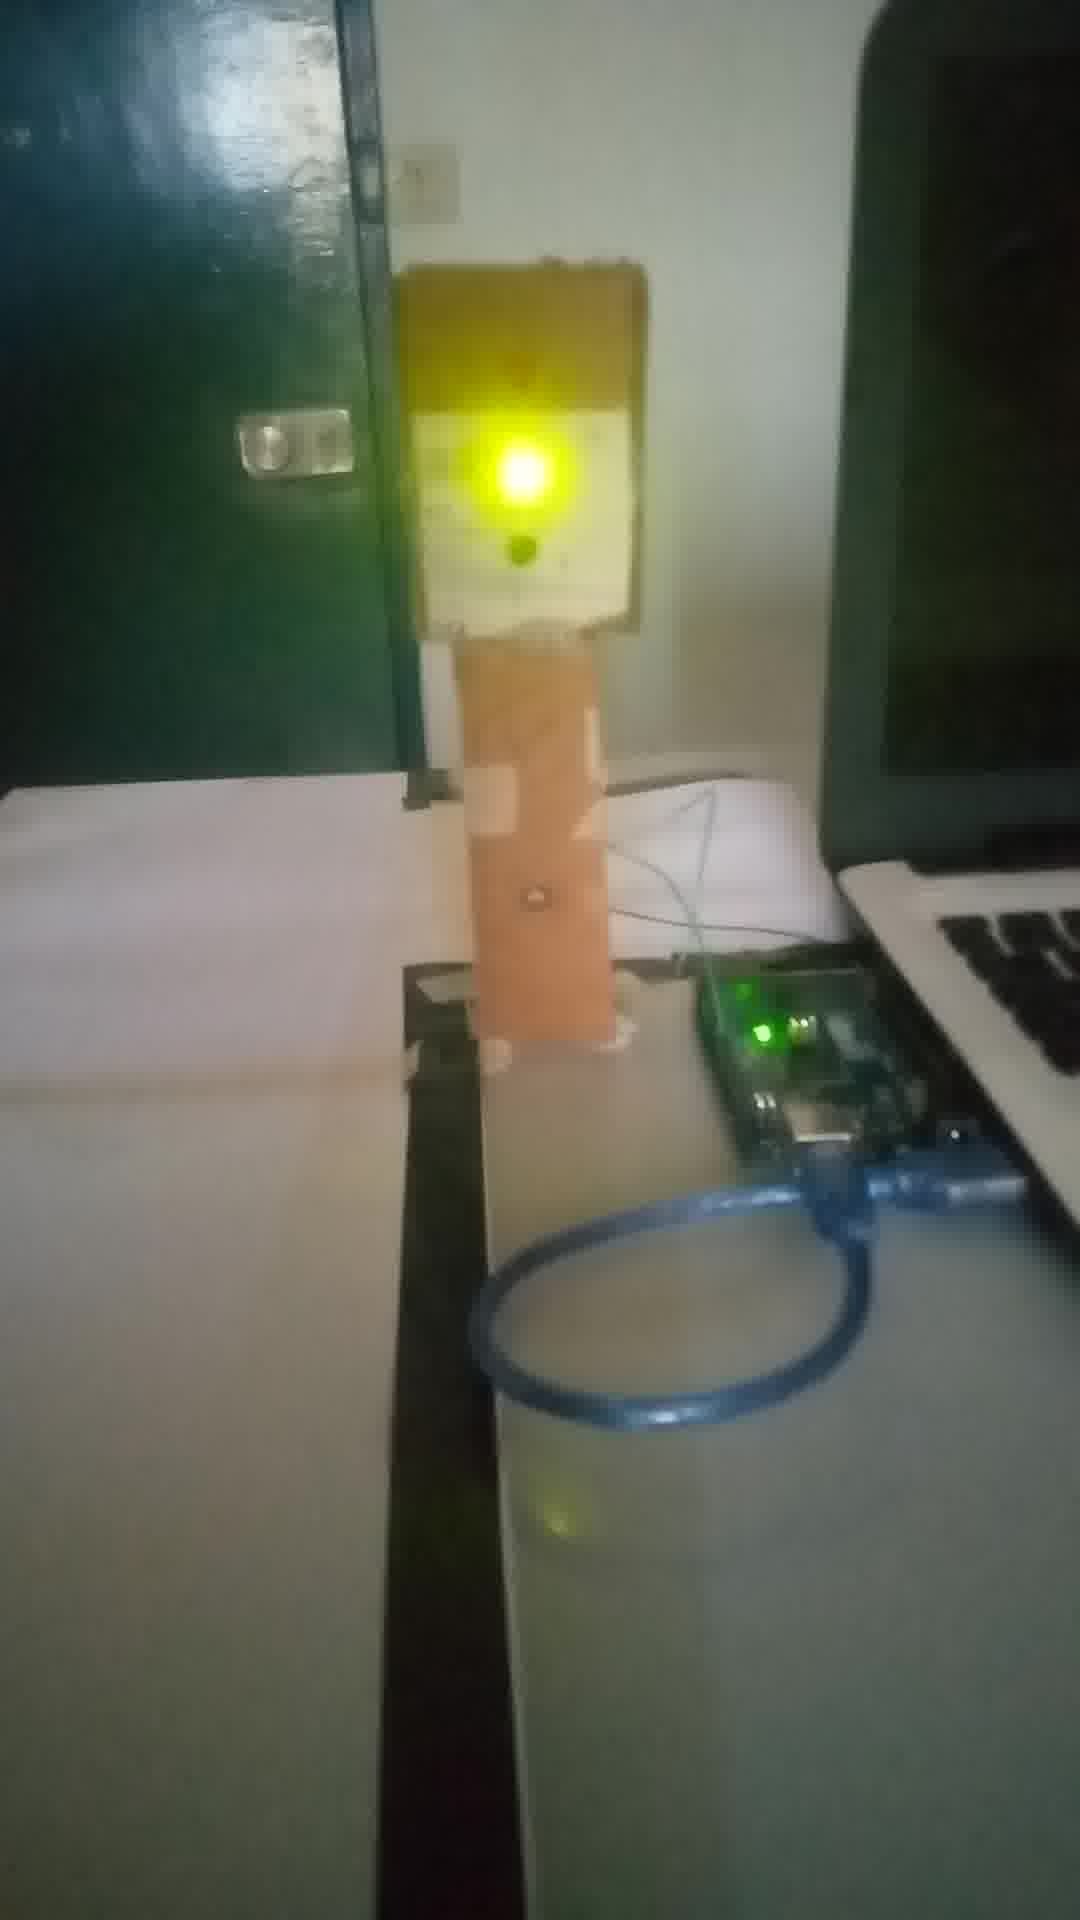yellow: (396, 269, 636, 634)
